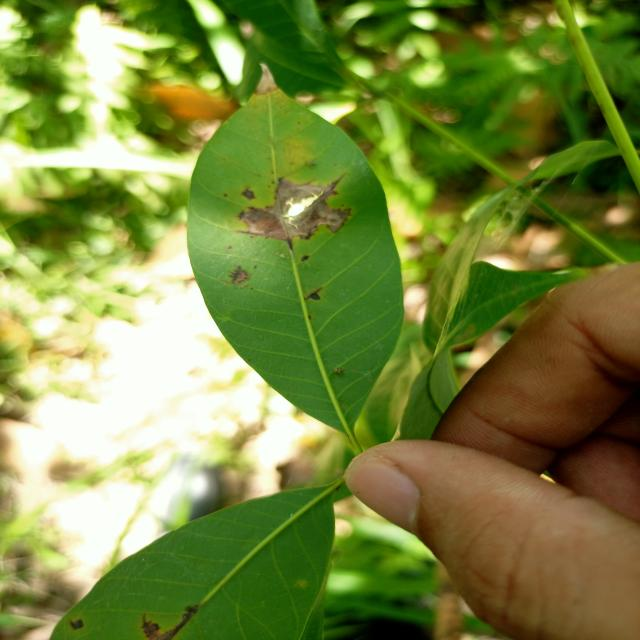Corynespora: (228, 266, 250, 284), (304, 286, 324, 300)
Leaf-Blight: (247, 180, 348, 238)
